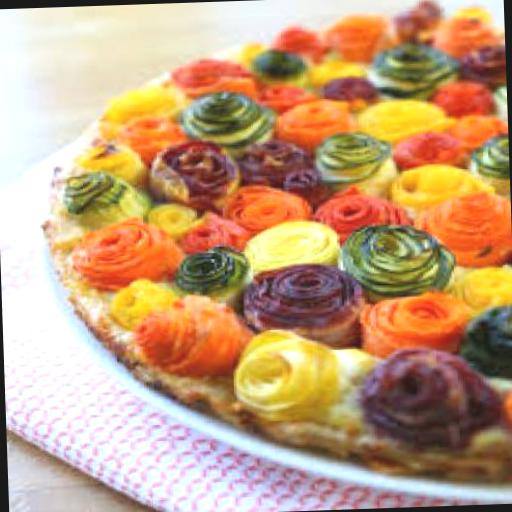biodegradable: (37, 0, 512, 493)
